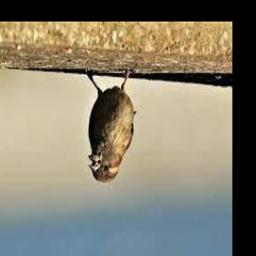Sparrow: (85, 70, 136, 184)
